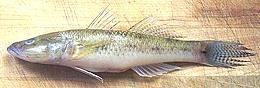Goby: (9, 6, 249, 81)
